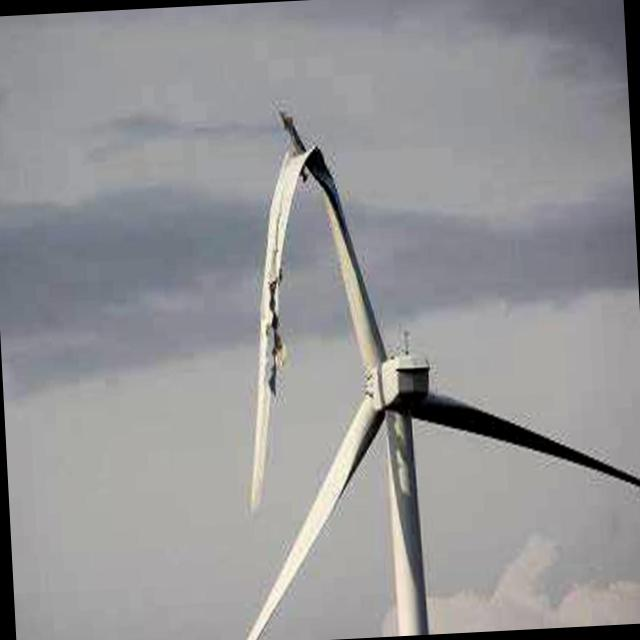crack: (220, 114, 358, 516)
